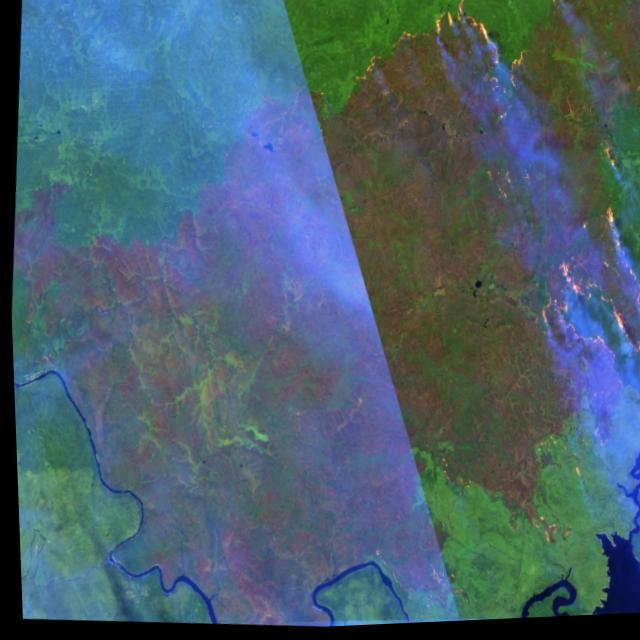fire: (516, 138, 640, 557), (341, 0, 539, 123)
